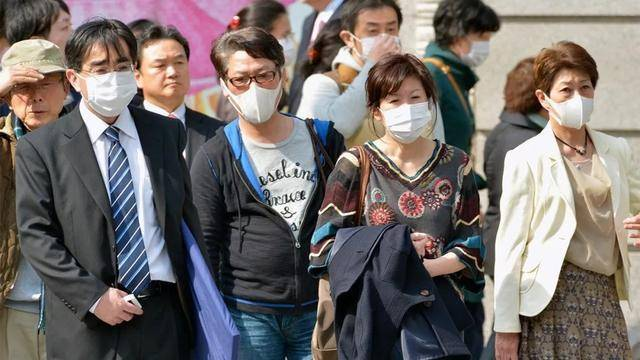mask: (80, 37, 145, 116), (224, 45, 289, 123), (373, 72, 434, 143), (545, 65, 597, 135)
